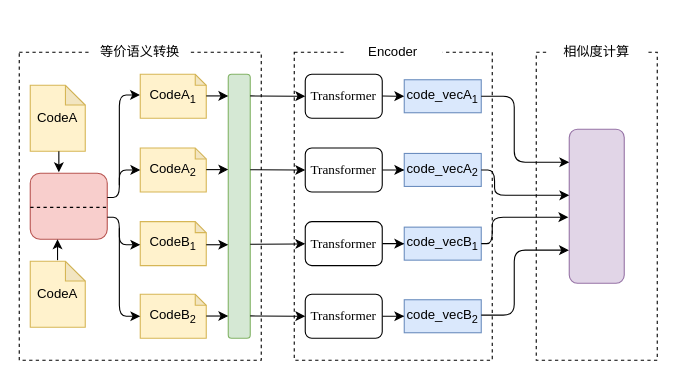
The diagram is 677 pixels wide and 380 high, and some of its shapes have lost their labels. Here are the shapes that lost their labels. From the top down, the centre of each, then its label:
At point 68,205: "JavaMethod Transformer".
At point 238,205: "A s t m i n e r".
At point 596,205: "余弦 相似 得分".
